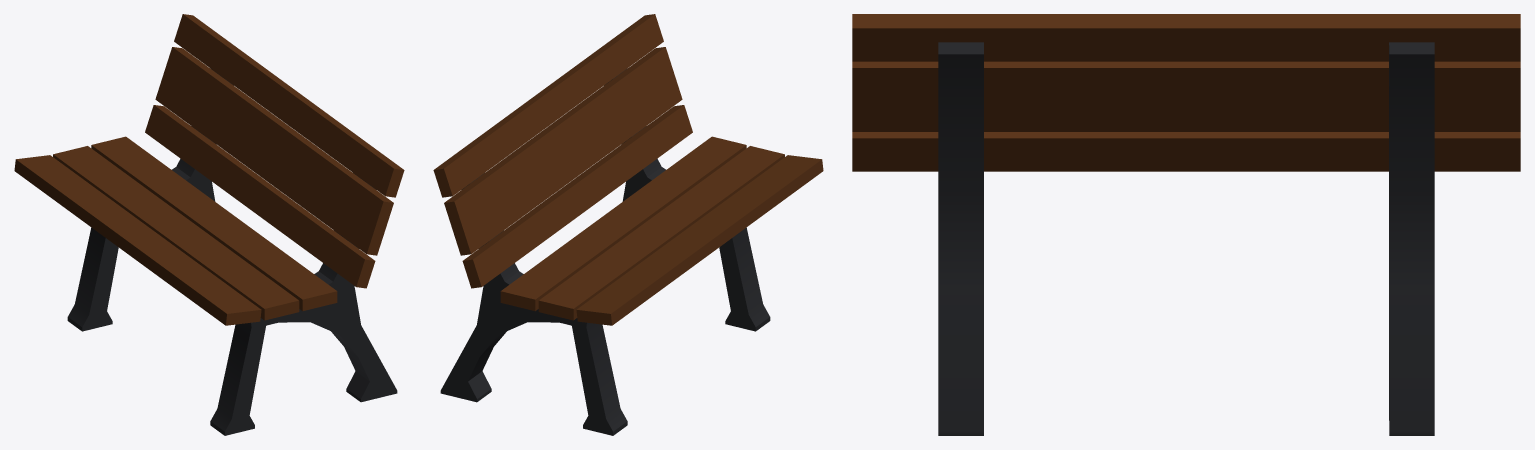
Rendered from Banch.fbx.
3 renders of one model, left to right at view 1: azimuth 30°, elevation 25°; view 2: azimuth 150°, elevation 25°; view 3: azimuth 270°, elevation 25°, orthographic. The views are drawn at different scales.
Visible parts, largest first — view 1: Cube.024; view 2: Cube.024; view 3: Cube.024.
Boxes of the visible parts, x1=… form: Cube.024: x1=14, y1=14, x2=404, y2=435; Cube.024: x1=433, y1=14, x2=823, y2=435; Cube.024: x1=852, y1=14, x2=1520, y2=435.
Size of the model in its own units: 107 by 198 by 131.
